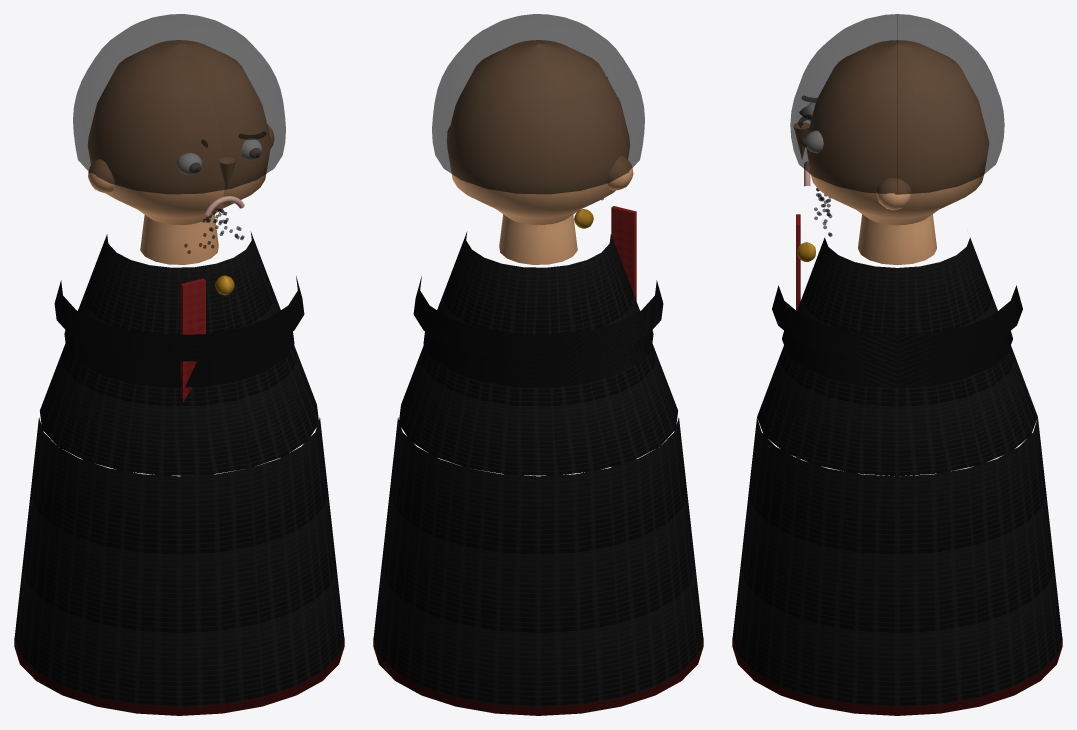
File: pontius_pilate.glb
3 renders of one model, left to right at view 1: azimuth 30°, elevation 25°; view 2: azimuth 150°, elevation 25°; view 3: azimuth 270°, elevation 25°, orthographic.
Parts seen in each view (by area): view 1: Character_pontius_pilate, head; view 2: Character_pontius_pilate, head; view 3: Character_pontius_pilate, head.
Boxes of the visible parts, x1,y1,x2,y2 form: Character_pontius_pilate: (14, 14, 344, 715); head: (88, 40, 270, 225); Character_pontius_pilate: (373, 14, 703, 715); head: (447, 40, 629, 225); Character_pontius_pilate: (732, 14, 1062, 715); head: (806, 40, 988, 225).
Size of the model in its own units: 0.8661 by 1.8 by 0.8661.
Materials: 11 (7 with a texture image).
